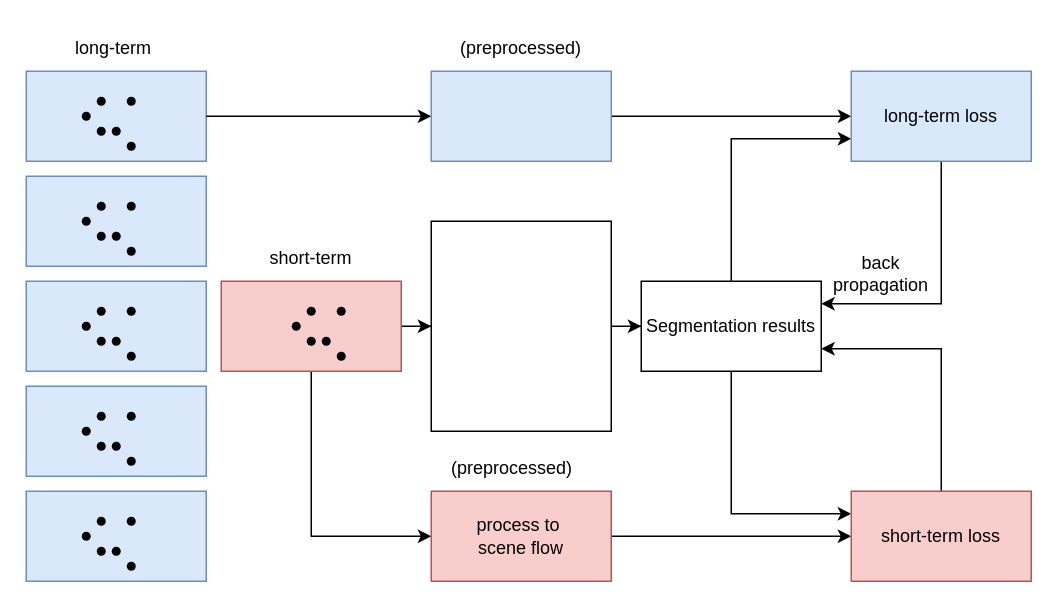
Image size: 1058x608. Some labels were removed from this diagram. Each missing label, with the box of its shape:
Model: (430, 220, 611, 431)
process to scene trajectory: (430, 70, 611, 161)
